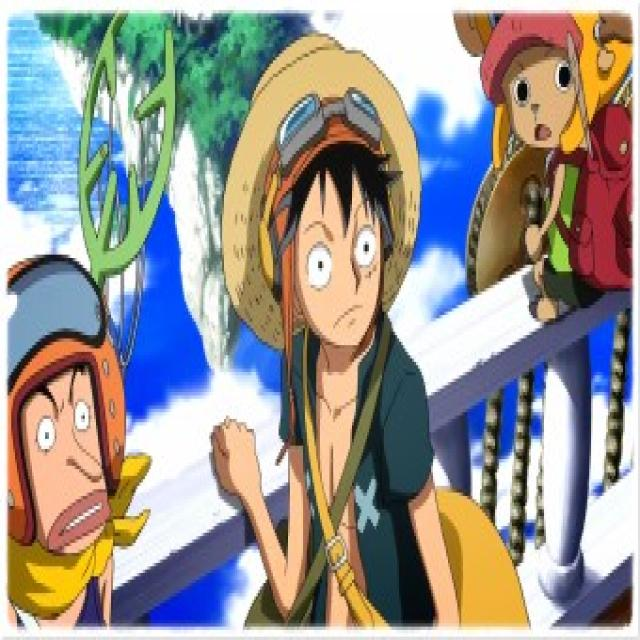Chyopa: (455, 0, 630, 319)
Luffy: (216, 23, 423, 360)
Usopp: (0, 252, 135, 552)
